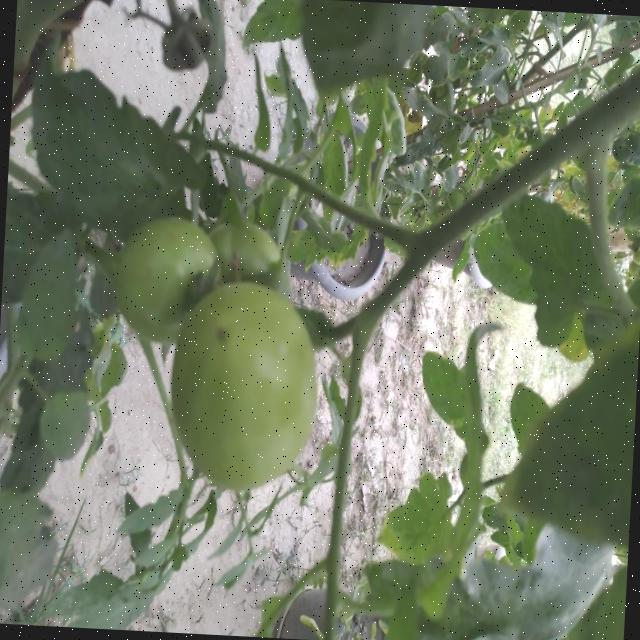Unripe: (166, 281, 324, 496)
